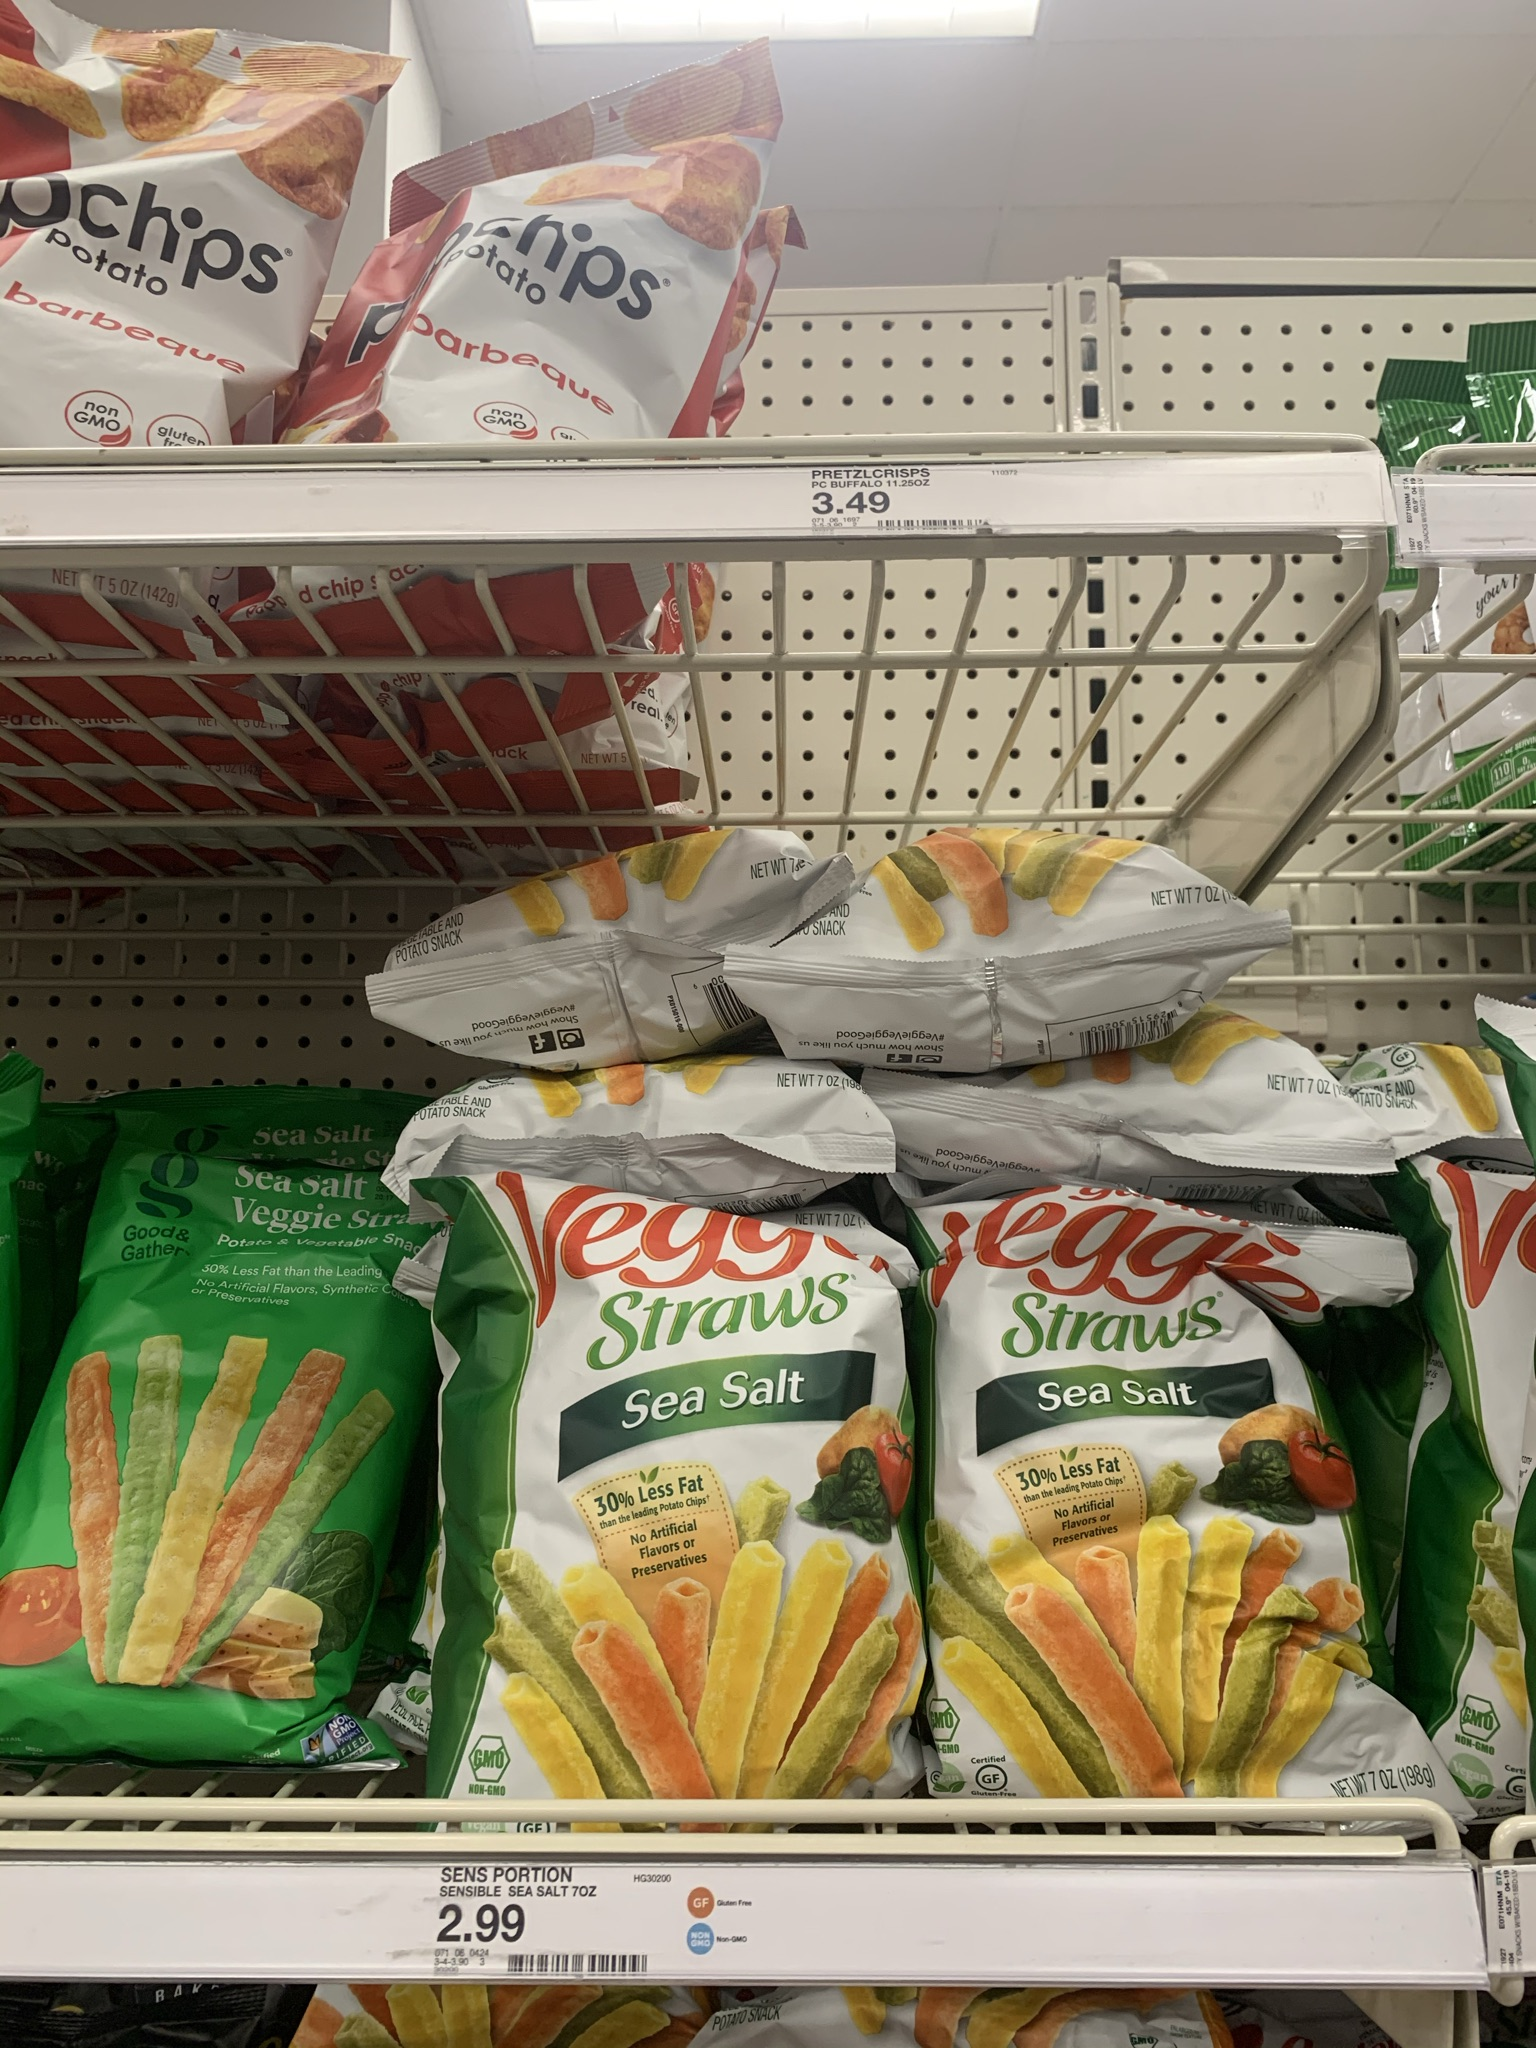veggie chips: (520, 1188, 944, 1838), (983, 1214, 1412, 1821), (129, 1105, 342, 1774)
